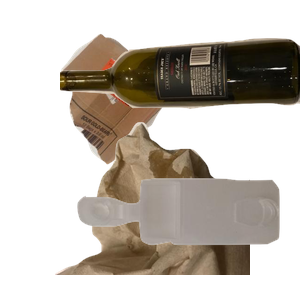cardboard: (58, 31, 222, 188)
glass: (60, 36, 300, 147)
plastic: (75, 176, 300, 300)
trash: (52, 120, 292, 300)
